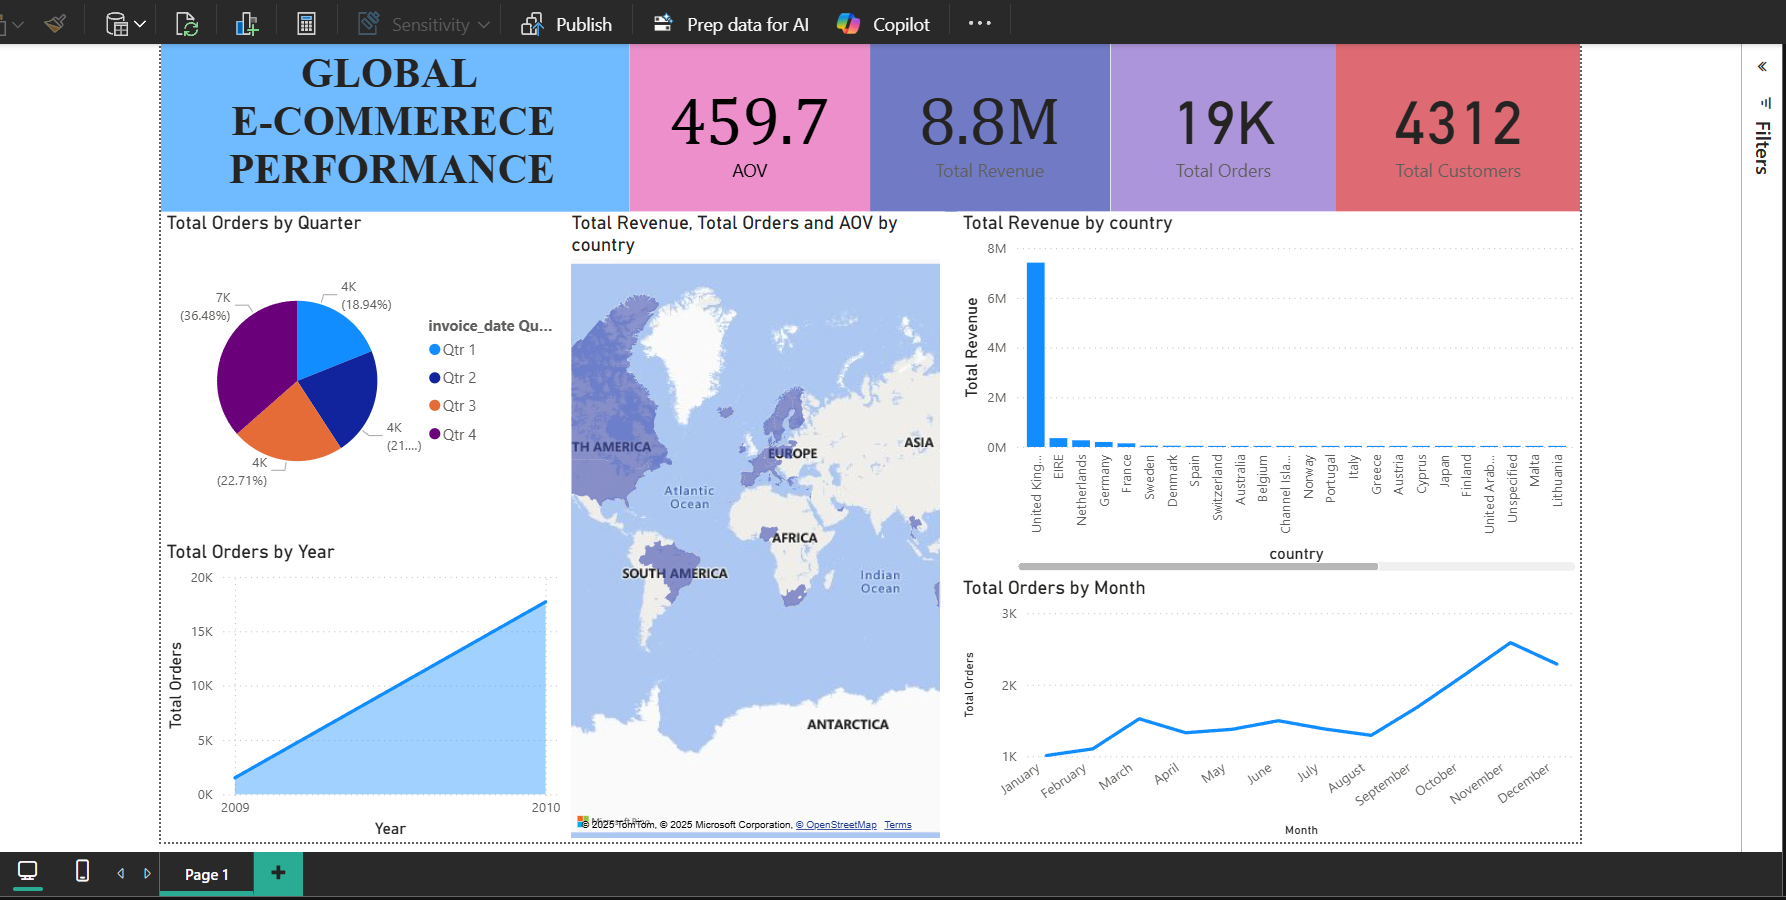

This screenshot's page, from the dashboard's own definition file:
{"tool":"powerbi","page":{"name":"Page 1","canvas":[1280,720],"ordinal":0},"visuals":[{"type":"card","fields":{"Values":["online_retail_cleaned.Total Revenue"]},"box":[639.5,0,216.8,150.9],"z":0},{"type":"card","fields":{"Values":["online_retail_cleaned.Total Orders"]},"box":[856.3,0,203.1,150.9],"z":1000},{"type":"card","fields":{"Values":["online_retail_cleaned.Total Customers"]},"box":[1059.4,0,220.9,150.9],"z":2000},{"type":"card","fields":{"Values":["online_retail_cleaned.AOV"]},"box":[422.6,0,216.8,150.9],"z":3000},{"type":"lineChart","fields":{"Category":["online_retail_cleaned.invoice_date.Variation.Date Hierarchy.Month"],"Y":["online_retail_cleaned.Total Orders"]},"box":[717.7,480.3,562.6,240.1],"z":4000},{"type":"pieChart","fields":{"Y":["online_retail_cleaned.Total Orders"],"Category":["online_retail_cleaned.invoice_date.Variation.Date Hierarchy.Quarter"]},"box":[0,150.9,365,286.8],"z":5000},{"type":"columnChart","fields":{"Y":["online_retail_cleaned.Total Revenue"],"Category":["online_retail_cleaned.country"]},"box":[717.7,150.9,562.6,329.3],"z":6000},{"type":"areaChart","fields":{"Category":["online_retail_cleaned.invoice_date.Variation.Date Hierarchy.Year","online_retail_cleaned.invoice_date.Variation.Date Hierarchy.Quarter","online_retail_cleaned.invoice_date.Variation.Date Hierarchy.Month","online_retail_cleaned.invoice_date.Variation.Date Hierarchy.Day"],"Y":["online_retail_cleaned.Total Orders"]},"box":[0,447.3,365,273.1],"z":7000},{"type":"filledMap","fields":{"Category":["online_retail_cleaned.country"]},"box":[365,150.9,341.7,569.5],"z":8000},{"type":"textbox","box":[0,0,422.6,150.9],"z":9000}]}

Visuals, with their boxes on the page's 1280x720 design canvas (x1, y1, x2, y2). These are canvas units, not pixel positions in the 1786x900 screenshot, which may show the page scaled, cropped or inside an application window:
card - online_retail_cleaned.Total Revenue: [640,0,856,151]
card - online_retail_cleaned.Total Orders: [856,0,1059,151]
card - online_retail_cleaned.Total Customers: [1059,0,1280,151]
card - online_retail_cleaned.AOV: [423,0,639,151]
lineChart - online_retail_cleaned.invoice_date.Variation.Date Hierarchy.Month x online_retail_cleaned.Total Orders: [718,480,1280,720]
pieChart - online_retail_cleaned.Total Orders x online_retail_cleaned.invoice_date.Variation.Date Hierarchy.Quarter: [0,151,365,438]
columnChart - online_retail_cleaned.Total Revenue x online_retail_cleaned.country: [718,151,1280,480]
areaChart - online_retail_cleaned.invoice_date.Variation.Date Hierarchy.Year x online_retail_cleaned.invoice_date.Variation.Date Hierarchy.Quarter: [0,447,365,720]
filledMap - online_retail_cleaned.country: [365,151,707,720]
textbox: [0,0,423,151]
